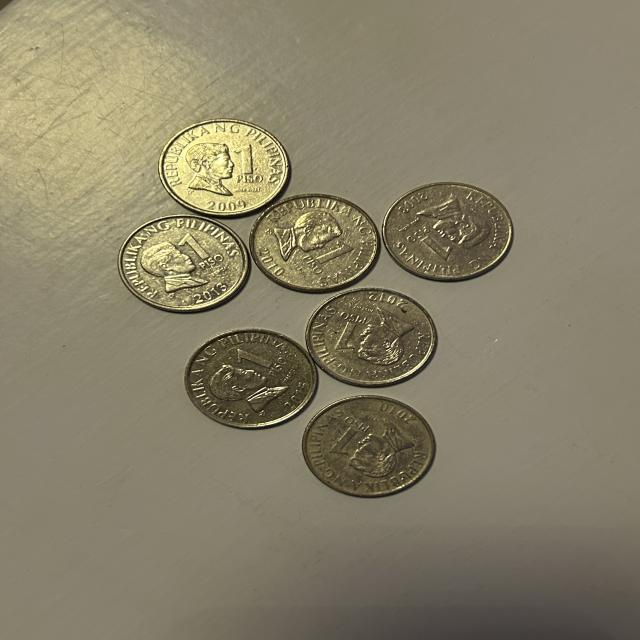1_Old_Front: (173, 231, 227, 276), (231, 346, 290, 380), (327, 413, 369, 460), (228, 140, 266, 191), (406, 226, 455, 265), (300, 242, 358, 274), (334, 305, 364, 357)
